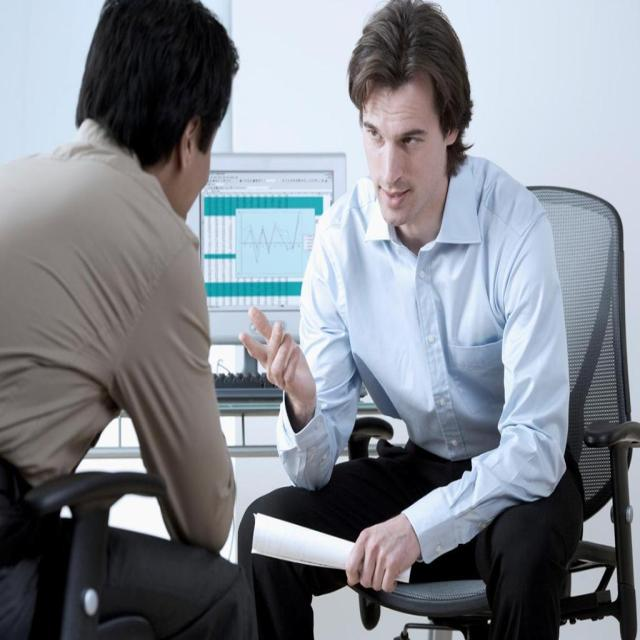Face: (352, 75, 450, 225)
